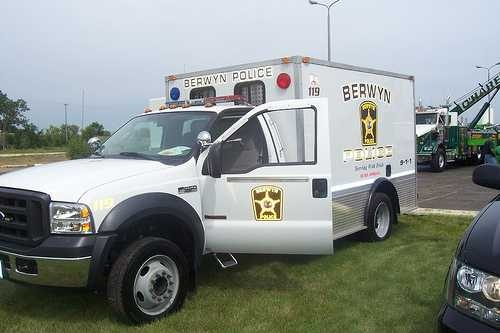Police Van: (5, 51, 432, 313)
